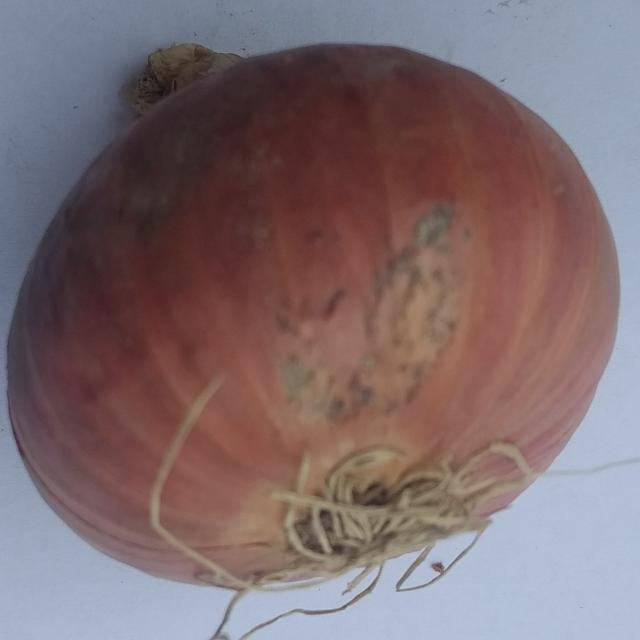onion: (7, 39, 623, 640)
